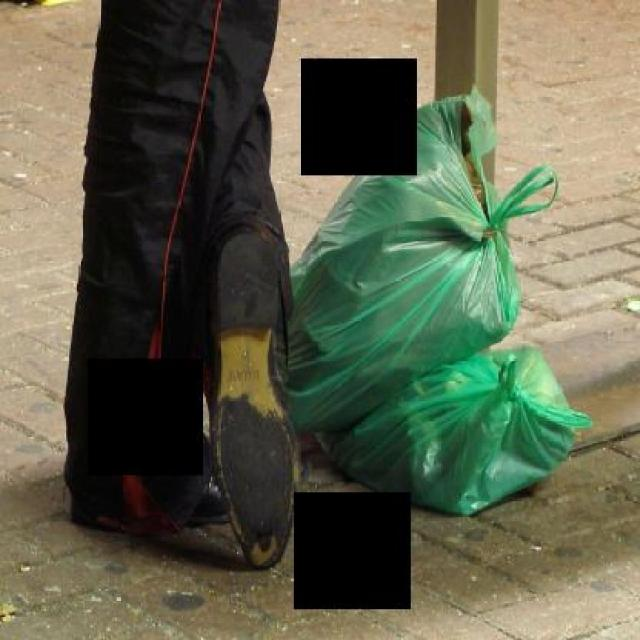plastic bag: (283, 77, 557, 429), (323, 343, 591, 514)
